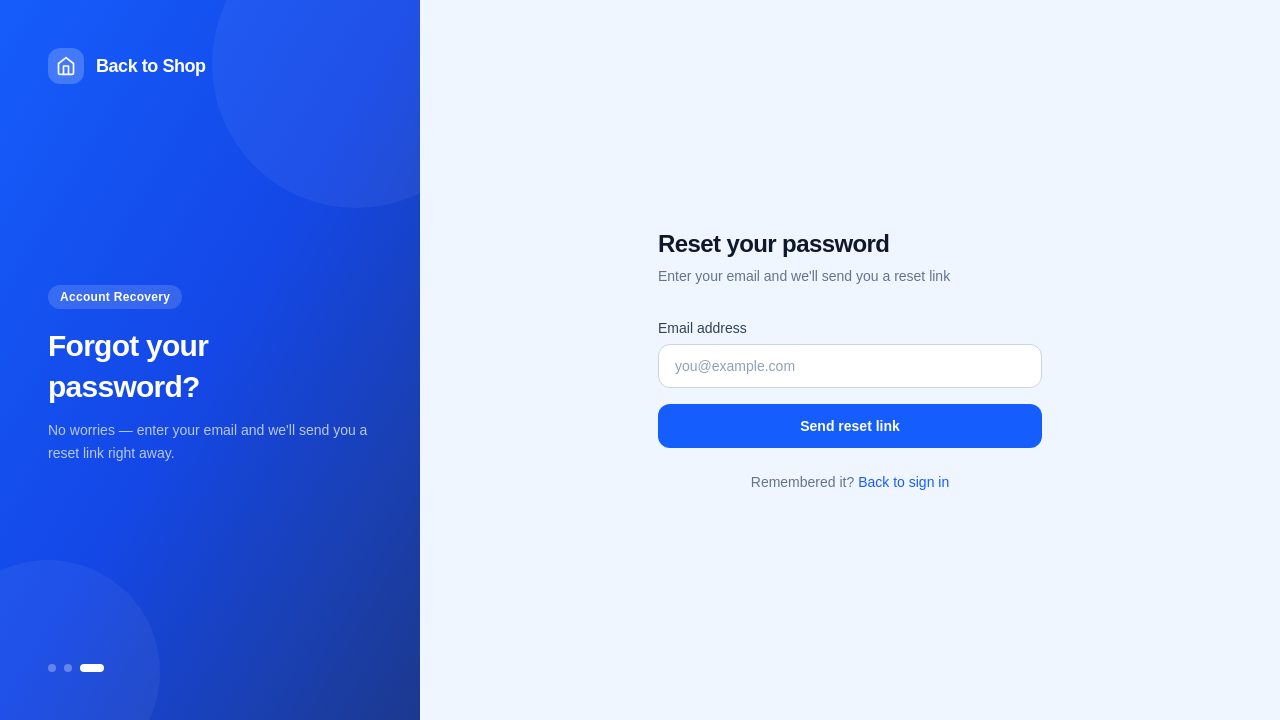
ForgotPasswordPage — failed reset request › shows an error message when Supabase returns an error
In the field with placeholder "you@example.com": (850, 366) [658,344,1042,388], type "bad@email.com"
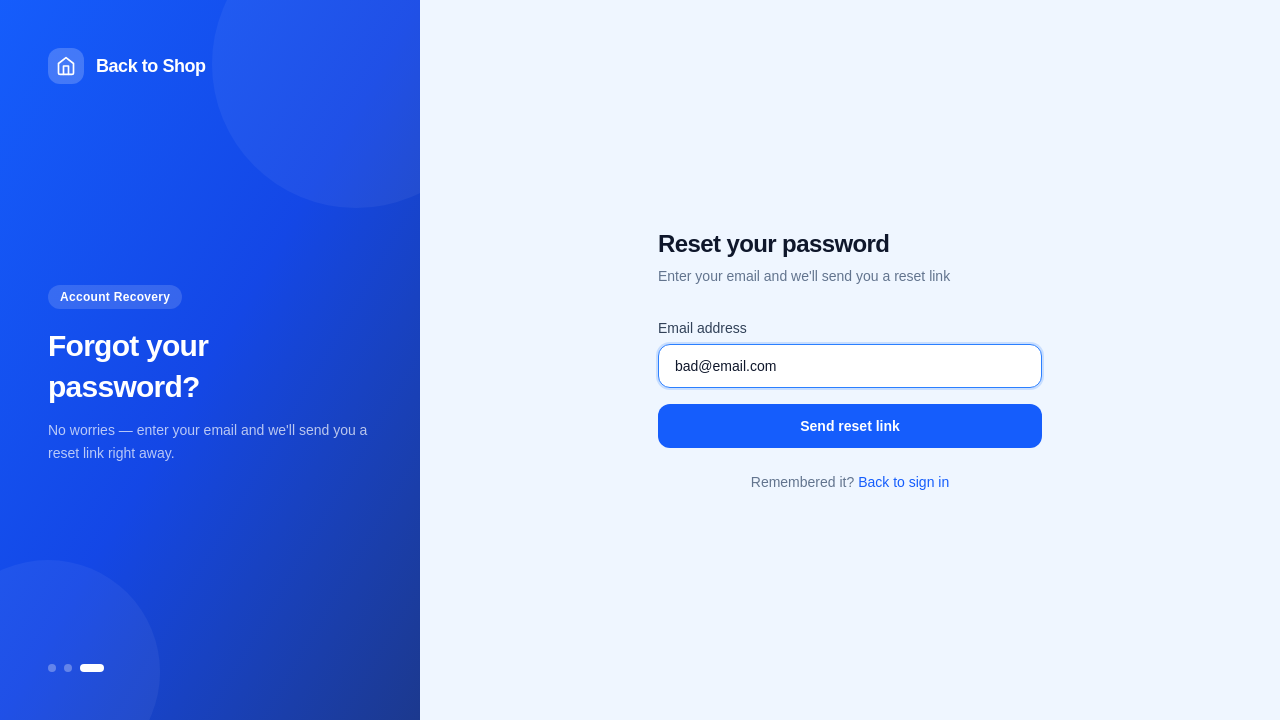
Click the button "Send reset link": click(850, 426) [658,404,1042,448]
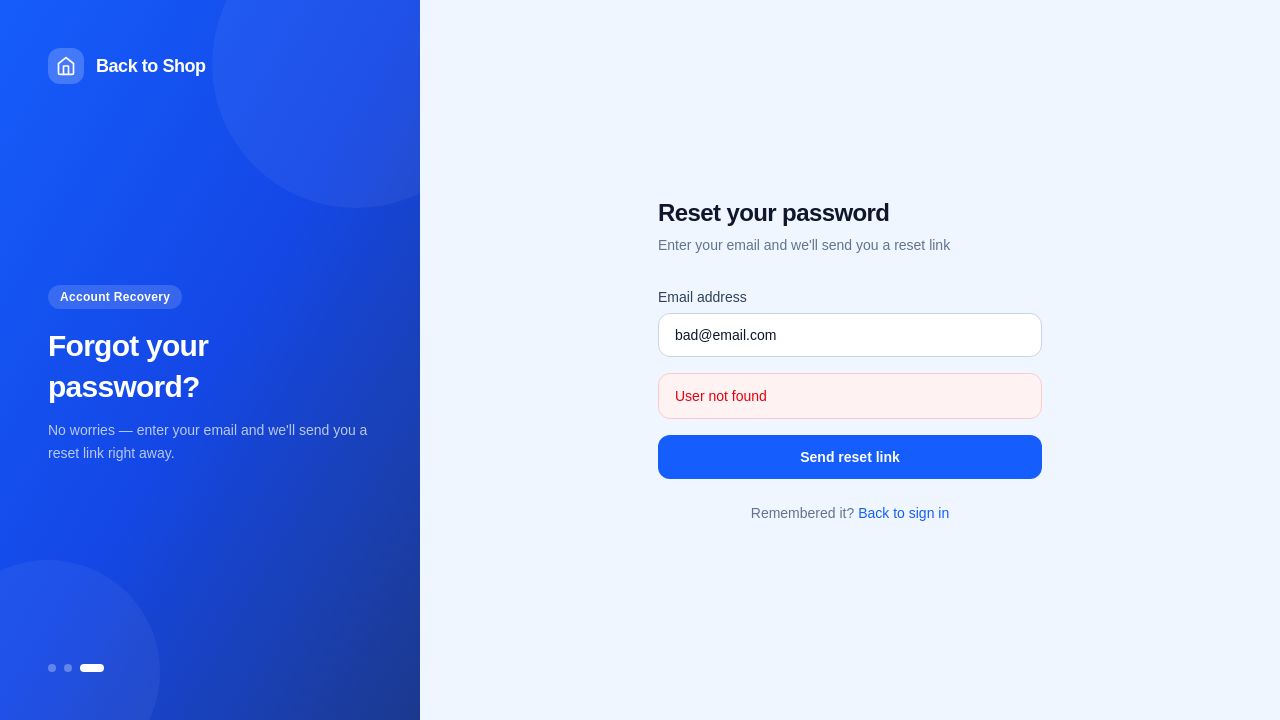
Now the text "User not found" is shown, box [658,373,1042,419]
